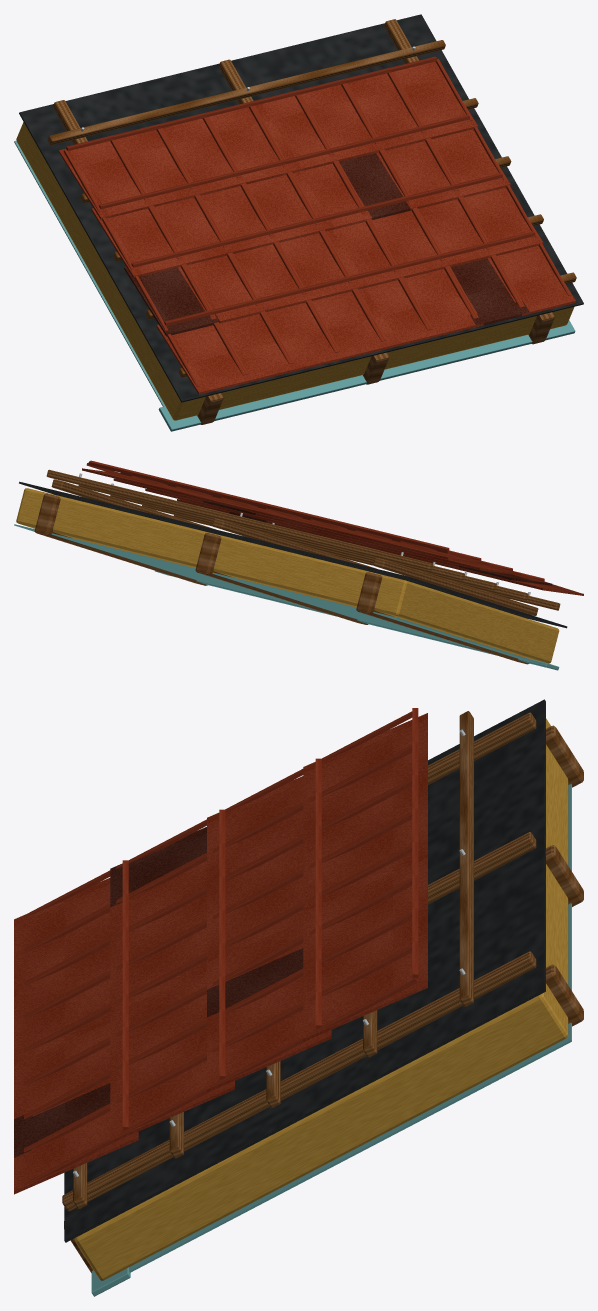
The model's file is modell.glb.
The picture shows the model from 3 angles, top to bottom: view 1: azimuth 30°, elevation 25°; view 2: azimuth 150°, elevation 25°; view 3: azimuth 270°, elevation 25°; orthographic projection. The views are drawn at different scales.
Visible parts, largest first — view 1: g01-deckziegel_deckung, g01-zusatzebene_zusatzebene, g01-daemmung_daemmung, g01-deckziegel_deckung.001, g01-lattung_lattung, g01-innenanschluss_luftdichtheit, g01-sparren_tragwerk, g01-luftdichtheit_luftdichtheit; view 2: g01-daemmung_daemmung, g01-lattung_lattung, g01-deckziegel_deckung, g01-sparren_tragwerk, g01-luftdichtheit_luftdichtheit, g01-zusatzebene_zusatzebene, g01-innenanschluss_luftdichtheit, g01-deckziegel_deckung.001; view 3: g01-deckziegel_deckung, g01-zusatzebene_zusatzebene, g01-daemmung_daemmung, g01-lattung_lattung, g01-deckziegel_deckung.001, g01-luftdichtheit_luftdichtheit, g01-sparren_tragwerk.
Part boxes in pixels (<box>): g01-deckziegel_deckung: <box>59,56,575,394</box>; g01-zusatzebene_zusatzebene: <box>19,14,583,402</box>; g01-daemmung_daemmung: <box>16,122,574,420</box>; g01-deckziegel_deckung.001: <box>124,153,529,336</box>; g01-lattung_lattung: <box>47,19,576,377</box>; g01-innenanschluss_luftdichtheit: <box>158,320,575,431</box>; g01-sparren_tragwerk: <box>197,312,554,424</box>; g01-luftdichtheit_luftdichtheit: <box>14,140,165,406</box>; g01-daemmung_daemmung: <box>16,488,559,663</box>; g01-lattung_lattung: <box>46,469,560,615</box>; g01-deckziegel_deckung: <box>82,460,583,595</box>; g01-sparren_tragwerk: <box>34,493,529,664</box>; g01-luftdichtheit_luftdichtheit: <box>14,524,542,664</box>; g01-zusatzebene_zusatzebene: <box>19,481,567,628</box>; g01-innenanschluss_luftdichtheit: <box>155,570,559,670</box>; g01-deckziegel_deckung.001: <box>203,500,552,585</box>; g01-deckziegel_deckung: <box>14,708,427,1194</box>; g01-zusatzebene_zusatzebene: <box>64,699,545,1242</box>; g01-daemmung_daemmung: <box>74,718,568,1280</box>; g01-lattung_lattung: <box>62,711,536,1211</box>; g01-deckziegel_deckung.001: <box>14,827,303,1157</box>; g01-luftdichtheit_luftdichtheit: <box>129,784,571,1272</box>; g01-sparren_tragwerk: <box>64,725,583,1272</box>.
Bounding box in the file's own units: 2.1 × 1.07 × 1.74.
Materials: 7 (5 with a texture image).
